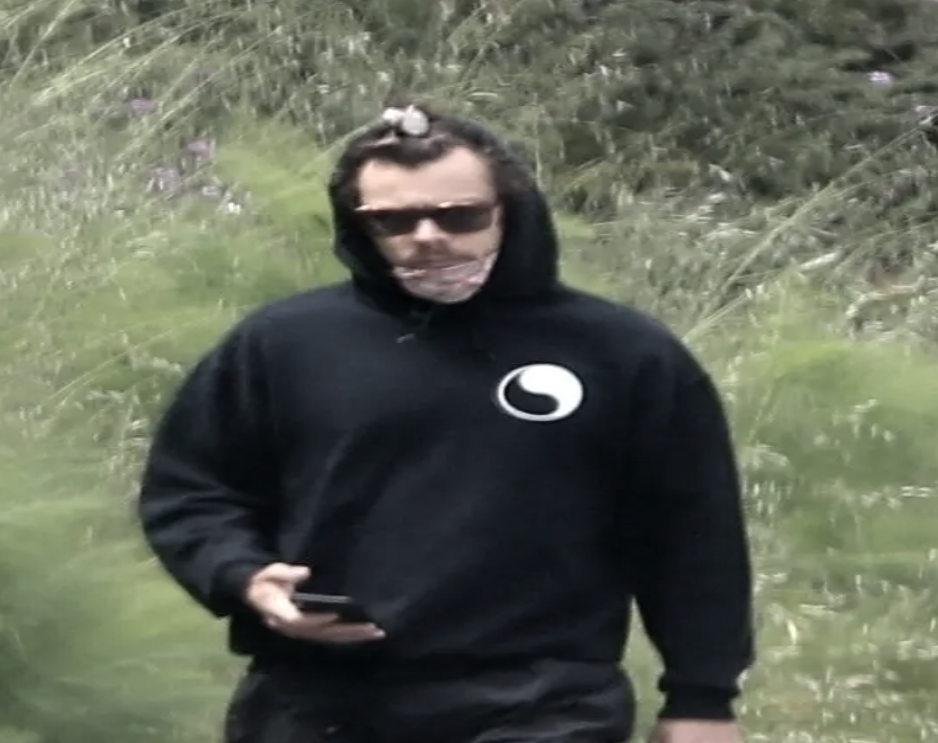mask_weared_incorrect: (329, 126, 532, 312)
